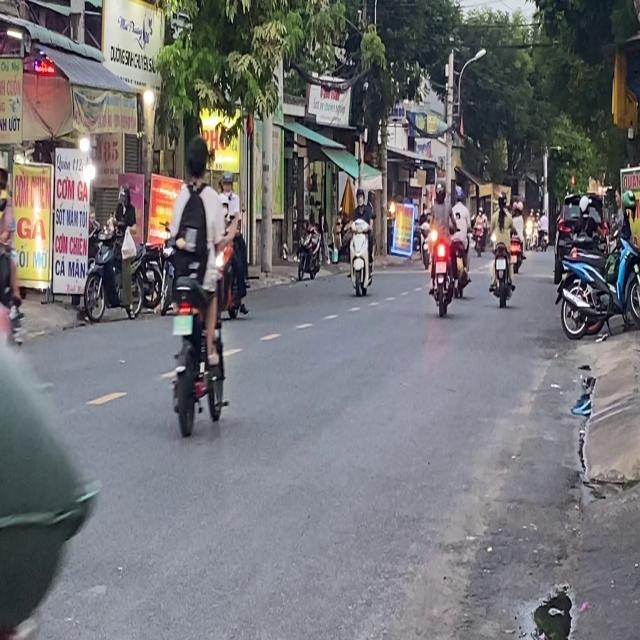helmet: (117, 184, 128, 206)
licenseplate: (165, 133, 231, 435), (82, 183, 140, 324)
motorcyclist: (182, 136, 208, 183)
nohelmet: (172, 316, 192, 335)
